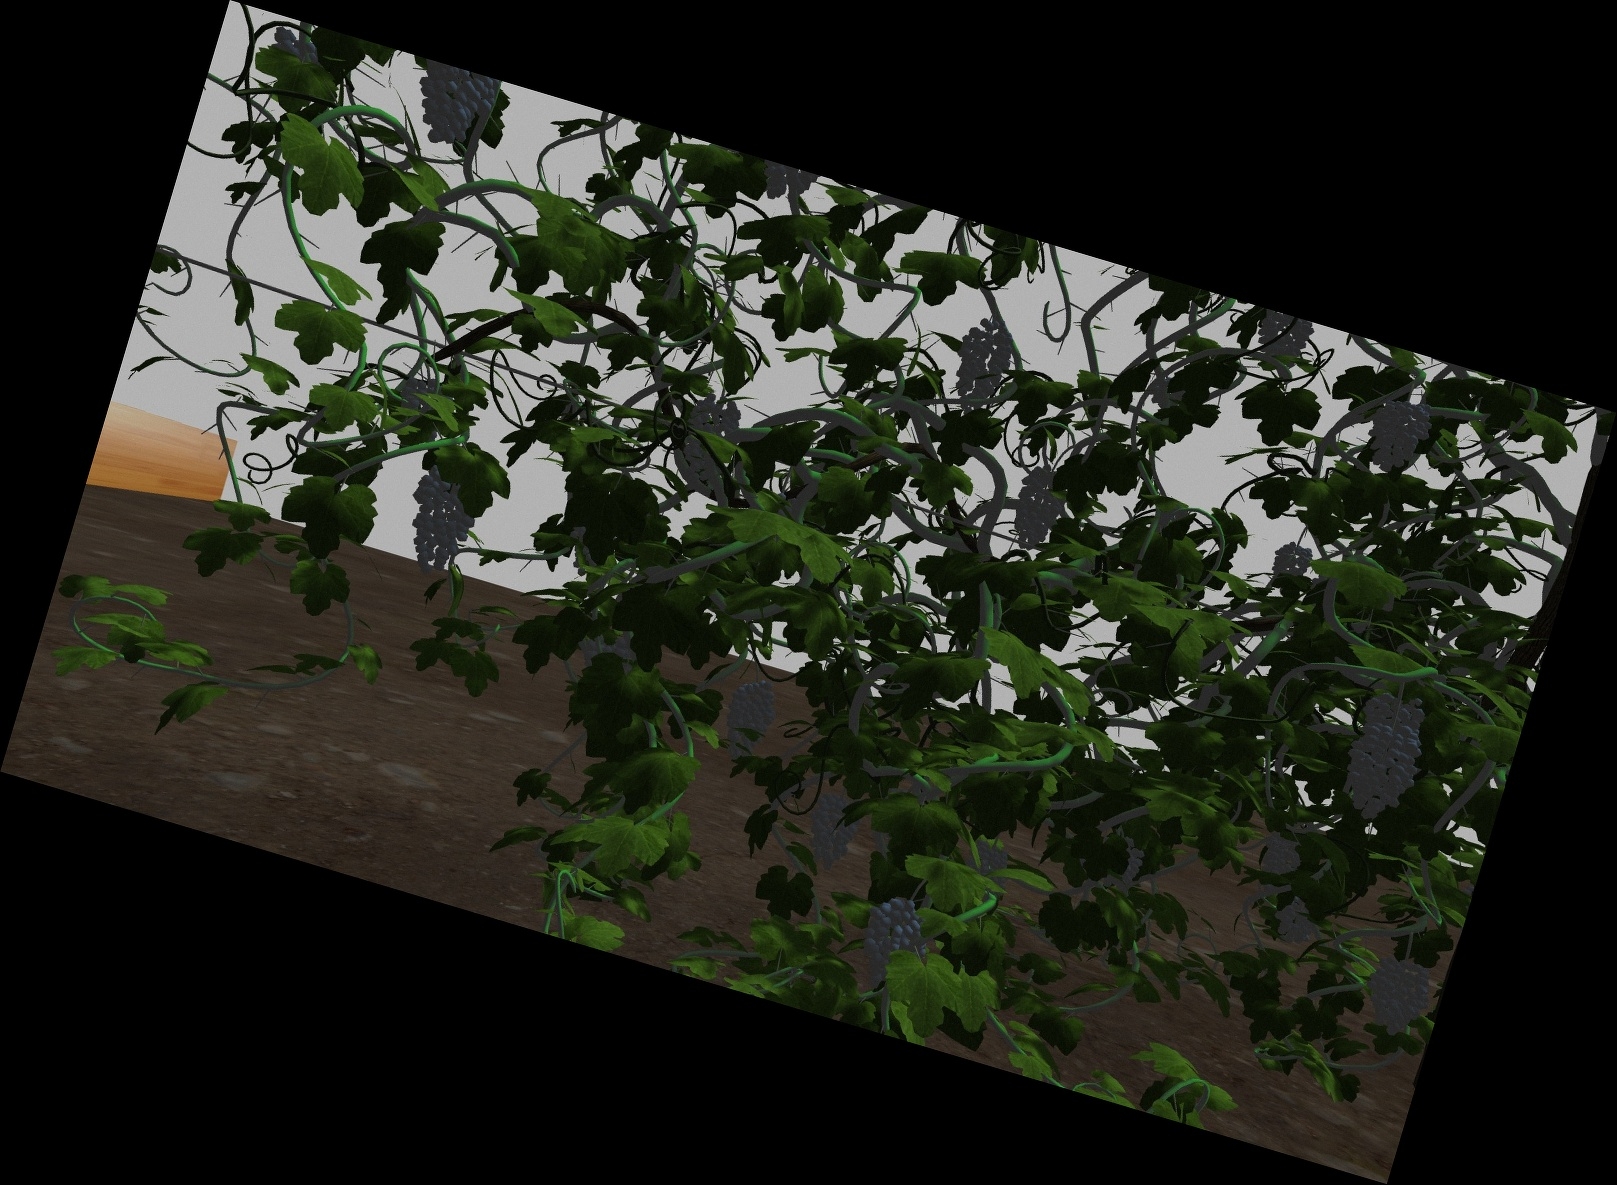grape: (407, 473, 473, 572), (412, 72, 490, 148), (1348, 729, 1409, 822), (953, 318, 1009, 416), (862, 896, 918, 994), (1365, 958, 1430, 1037), (806, 783, 860, 871), (684, 395, 737, 482), (1368, 399, 1427, 475), (1014, 466, 1061, 551), (726, 680, 773, 752), (1255, 318, 1308, 373), (1363, 692, 1422, 736), (1258, 832, 1298, 893), (1276, 904, 1313, 945), (1273, 542, 1309, 582)
